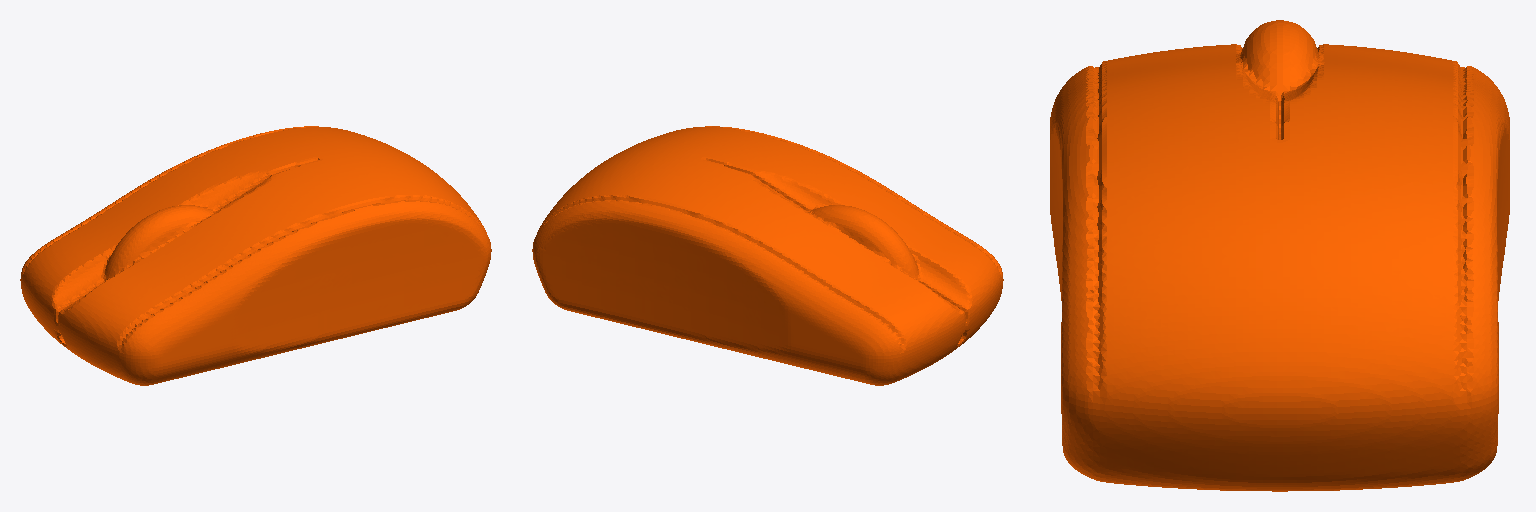
The robot description file, URDF, robot "mouse":
<?xml version="1.0" ?>
<robot name="mouse">
   <material name="obj_color">
      <color rgba="1.0 0.423529411765 0.0392156862745 1.0"/>
   </material>
   <link name="top">
      <inertial>
         <origin rpy="0.0001455299131353951 0.0003796846203418073 0.000452568806517617" xyz="0.003294898627381099 6.589951112873586e-07 -0.002978932004835639"/>
         <mass value="0.3958472803408005"/>
         <inertia ixx="0.0001467153585401982" ixy="8.02301154854482e-09" ixz="-1.904133596665211e-05" iyy="0.0003796846202071052" iyz="3.876392729282686e-09" izz="0.0004513833612475157"/>
      </inertial>
      <visual>
         <origin rpy="0 0 0" xyz="0 0 0"/>
         <geometry>
            <mesh filename="top_watertight_tiny.stl" scale="1 1 1"/>
         </geometry>
         <material name="obj_color"/>
      </visual>
      <collision>
         <origin rpy="0 0 0" xyz="0 0 0"/>
         <geometry>
            <mesh filename="top_watertight_tiny.obj" scale="1 1 1"/>
         </geometry>
      </collision>
   </link>
   <link name="bottom">
      <inertial>
         <origin rpy="1.633333333194242e-08 1.633333333194243e-08 1.633333333357667e-08" xyz="0.3464080000000008 0.3464080000000008 0.3464080000000008"/>
         <mass value="0.0009800000000000017"/>
         <inertia ixx="1.633333333248717e-08" ixy="5.447480642029219e-19" ixz="5.447480642029219e-19" iyy="1.633333333248717e-08" iyz="5.447480642029219e-19" izz="1.633333333248717e-08"/>
      </inertial>
      <visual>
         <origin rpy="0 0 0" xyz="0 0 0"/>
         <geometry>
            <mesh filename="bottom_watertight_tiny.stl" scale="1 1 1"/>
         </geometry>
         <material name="obj_color"/>
      </visual>
   </link>
   <joint name="rotation" type="revolute">
      <origin xyz="0 0 0"/>
      <axis xyz="0 0 -1"/>
      <parent link="bottom"/>
      <child link="top"/>
      <dynamics damping="1.0" friction="1.0"/>
      <limit effort="0.1" velocity="0.1" lower="0" upper="0.001"/>
   </joint>
</robot>

--- Facts derived from the render (not from the file) ---
Views: 3 orthographic renders of the robot side by side, from view 1: azimuth 30°, elevation 25°; view 2: azimuth 150°, elevation 25°; view 3: azimuth 270°, elevation 25°.
Robot: mouse — 2 links, 1 joints (1 revolute); root link bottom; default pose: all joints at 0.
Visible links, largest first — view 1: top; view 2: top; view 3: top.
Boxes of the visible links, left/top/right/bottom form: top: left=20, top=126, right=491, bottom=385; top: left=532, top=126, right=1003, bottom=385; top: left=1050, top=20, right=1509, bottom=491.
Size in the robot's own frame: 0.1169 by 0.0626 by 0.039 metres.
Meshes: 2 distinct files referenced, 1 mesh visuals loaded (1 binary STL); not drawn: 1 (reference not matched to a file when rendering).
